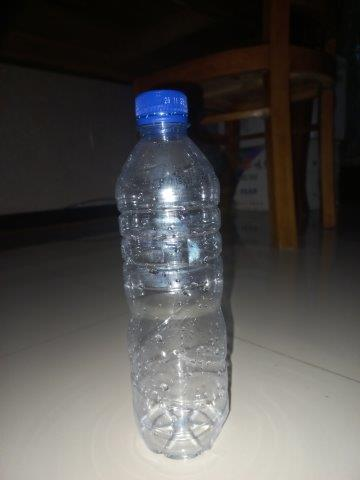botolplastik: (115, 88, 230, 459)
